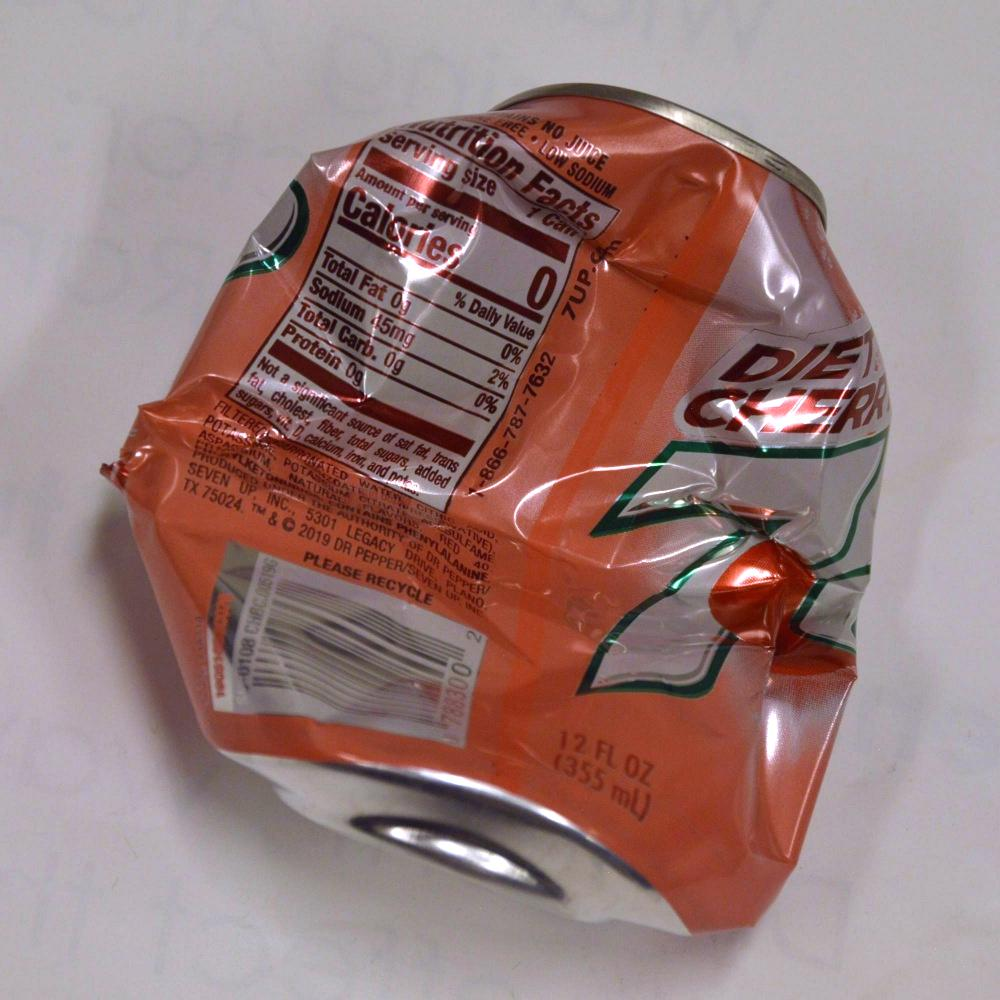Metal: (63, 68, 886, 923)
